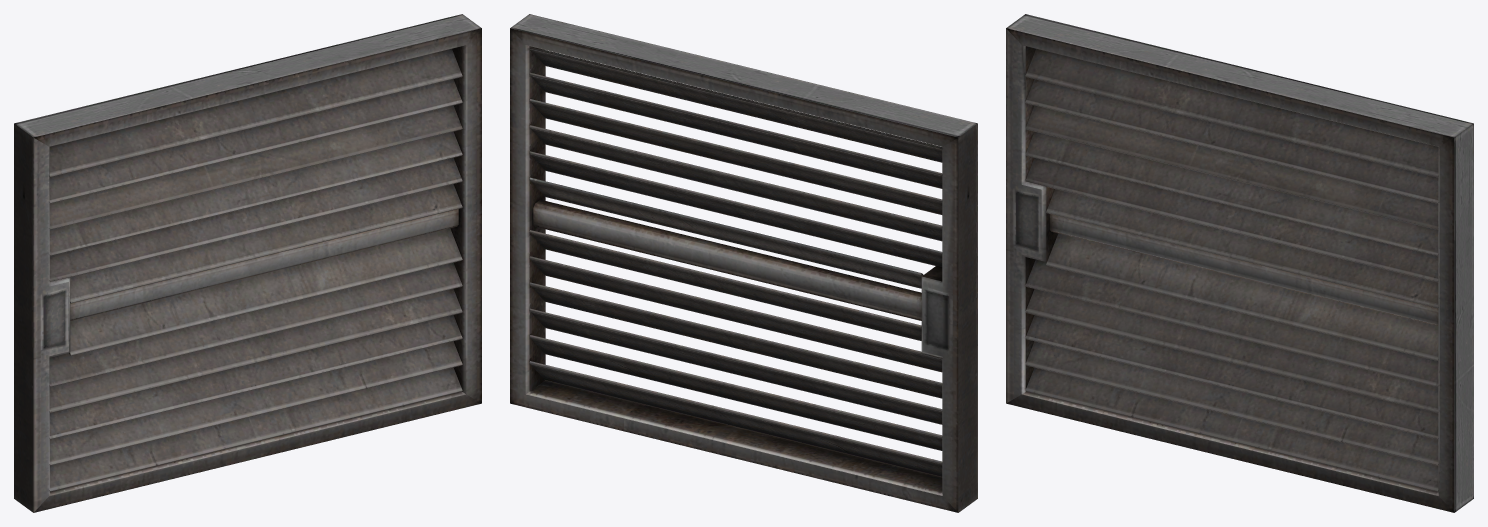
File: air_vent_door.dae
3 renders of one model, left to right at view 1: azimuth 30°, elevation 25°; view 2: azimuth 150°, elevation 25°; view 3: azimuth 330°, elevation 25°, orthographic.
Visible parts, largest first — view 1: Mesh; view 2: Mesh; view 3: Mesh.
Boxes of the visible parts, x1,y1,x2,y2 form: Mesh: (14,14,481,512); Mesh: (510,14,977,512); Mesh: (1006,14,1473,512).
Bounding box in the file's own units: 1.25 × 1 × 0.0938.
